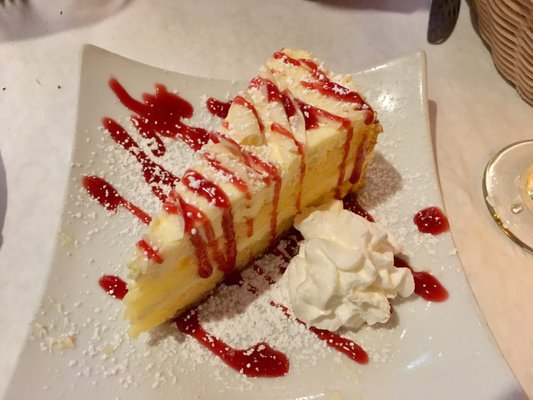curry: (23, 0, 532, 400)
sushi: (41, 46, 385, 341)
